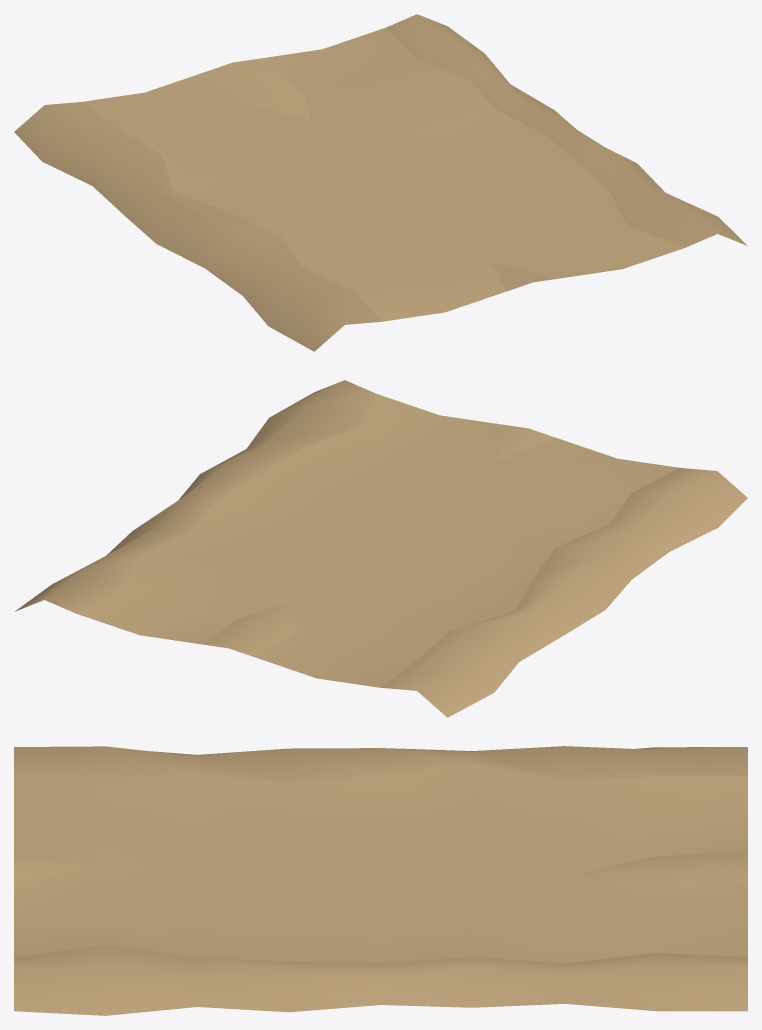
Rendered from Building_mode_L1_Road002.fbx.
3 renders of one model, top to bottom at view 1: azimuth 30°, elevation 25°; view 2: azimuth 150°, elevation 25°; view 3: azimuth 270°, elevation 25°, orthographic. The views are drawn at different scales.
Visible parts, largest first — view 1: Building_mode_L1_Road002; view 2: Building_mode_L1_Road002; view 3: Building_mode_L1_Road002.
Part boxes in pixels (x1,y1,x2,y2): Building_mode_L1_Road002: (14, 14, 747, 351); Building_mode_L1_Road002: (14, 380, 747, 717); Building_mode_L1_Road002: (14, 746, 747, 1015).
Bounding box in the file's own units: 2.6 × 0.1243 × 3.
